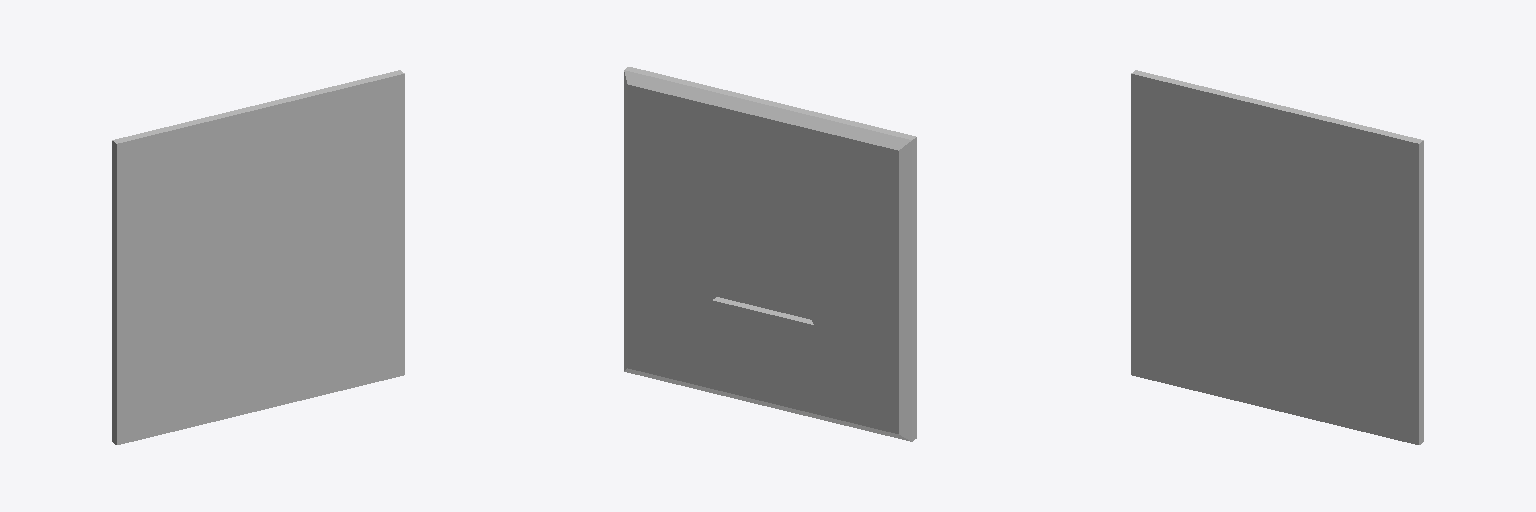
The model's file is TileTriangle.obj.
3 views of the same model, side by side, from view 1: azimuth 30°, elevation 25°; view 2: azimuth 150°, elevation 25°; view 3: azimuth 330°, elevation 25° (orthographic).
Parts seen in each view (by area): view 1: TileTriangle_TileTraingle; view 2: TileTriangle_TileTraingle; view 3: TileTriangle_TileTraingle.
Boxes of the visible parts, box(x1,y1,x2,y2) form: TileTriangle_TileTraingle: box(112, 70, 404, 444); TileTriangle_TileTraingle: box(624, 67, 916, 441); TileTriangle_TileTraingle: box(1131, 70, 1423, 444).
Size of the model in its own units: 1.7 by 1.7 by 0.1.